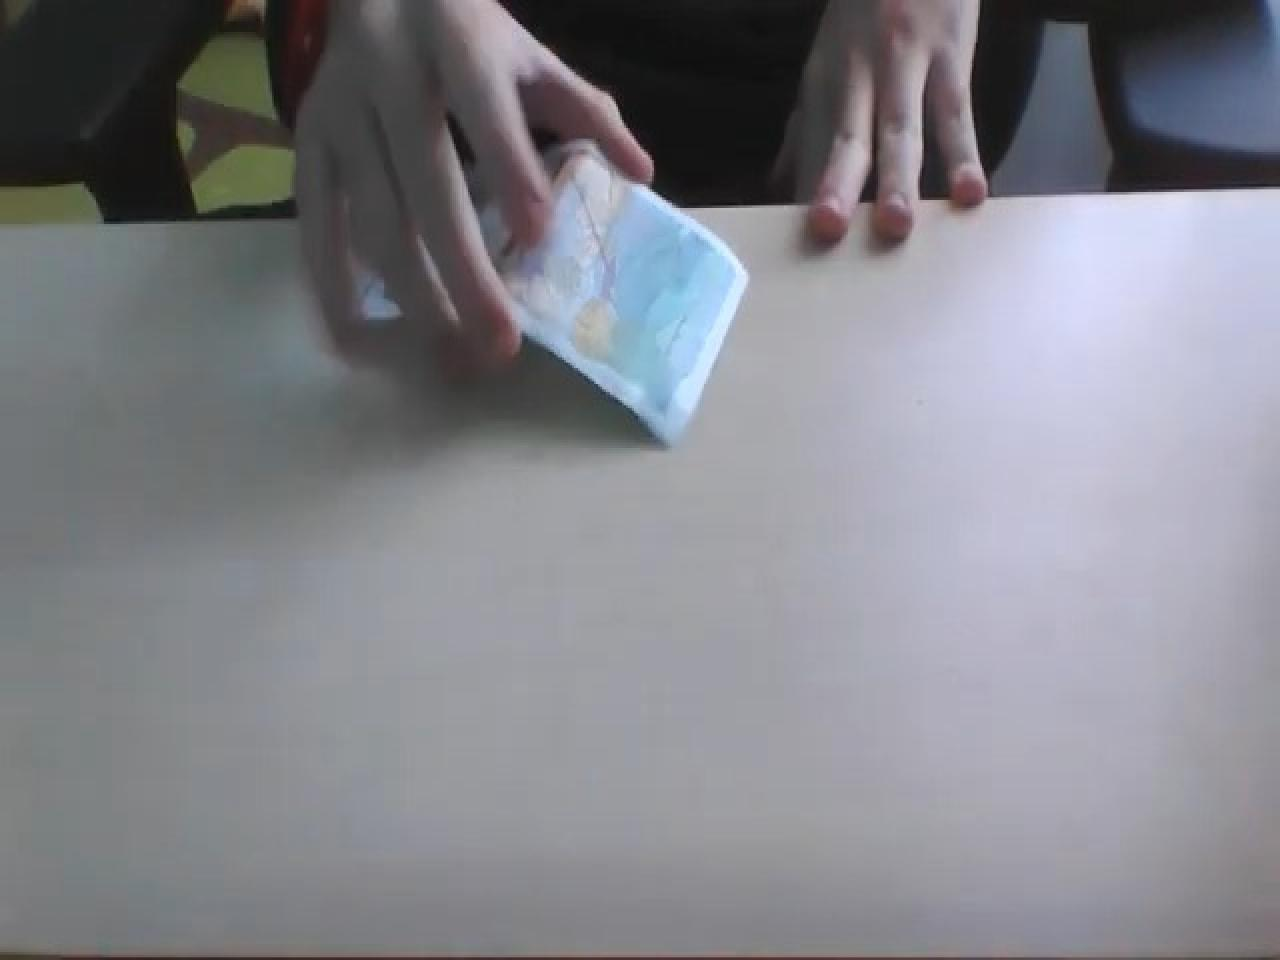100leva: (480, 133, 752, 446)
